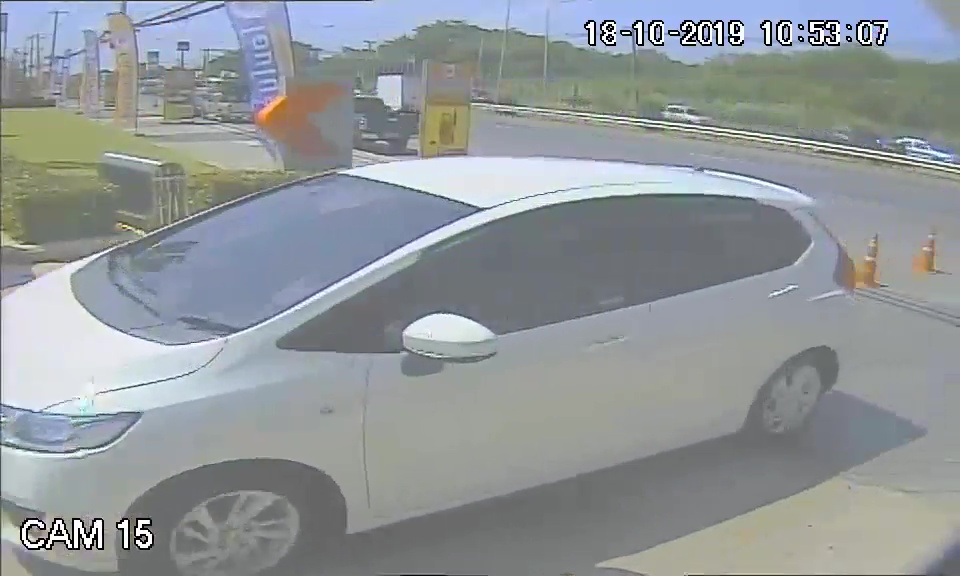sedan: (4, 157, 858, 511)
